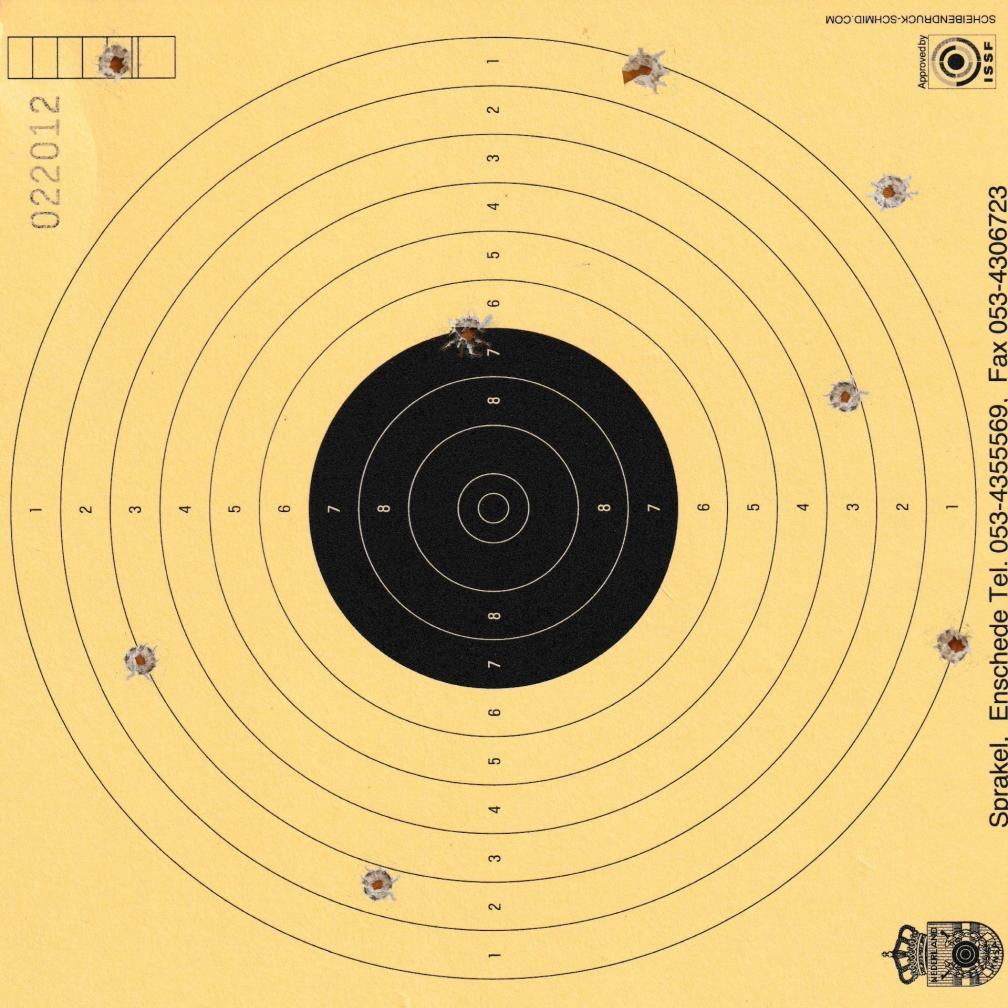0: (89, 40, 147, 85), (869, 170, 921, 216)
1: (621, 46, 674, 92), (936, 623, 974, 666)
2: (355, 864, 399, 902)
3: (826, 380, 873, 415), (121, 642, 161, 682)
7: (442, 312, 496, 358)
Target: (8, 29, 980, 982)
black_contour: (310, 327, 676, 689)
